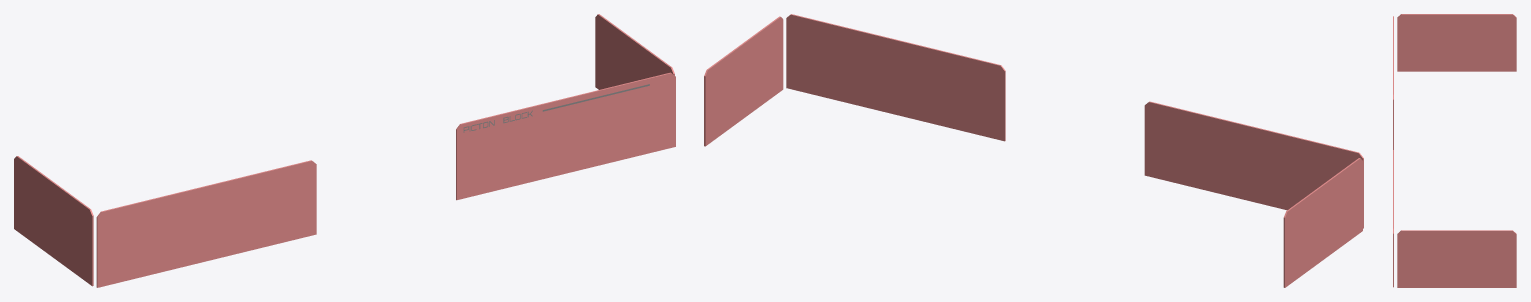
Rendered from S_Envi_Fyz_Building_105u.gltf.
3 renders of one model, left to right at view 1: azimuth 30°, elevation 25°; view 2: azimuth 150°, elevation 25°; view 3: azimuth 270°, elevation 25°, orthographic. The views are drawn at different scales.
Visible parts, largest first — view 1: S_Envi_Fyz_Building_105u; view 2: S_Envi_Fyz_Building_105u; view 3: S_Envi_Fyz_Building_105u.
Part boxes in pixels (bbox=[...]): S_Envi_Fyz_Building_105u: bbox=[14, 14, 675, 287]; S_Envi_Fyz_Building_105u: bbox=[704, 14, 1363, 287]; S_Envi_Fyz_Building_105u: bbox=[1393, 14, 1516, 287].
Size of the model in its own units: 10.08 by 1.24 by 2.44.
